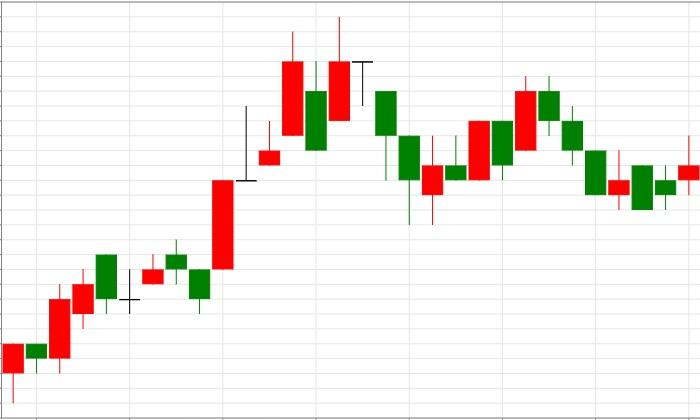three_black_crows_fall: (422, 74, 607, 226)
